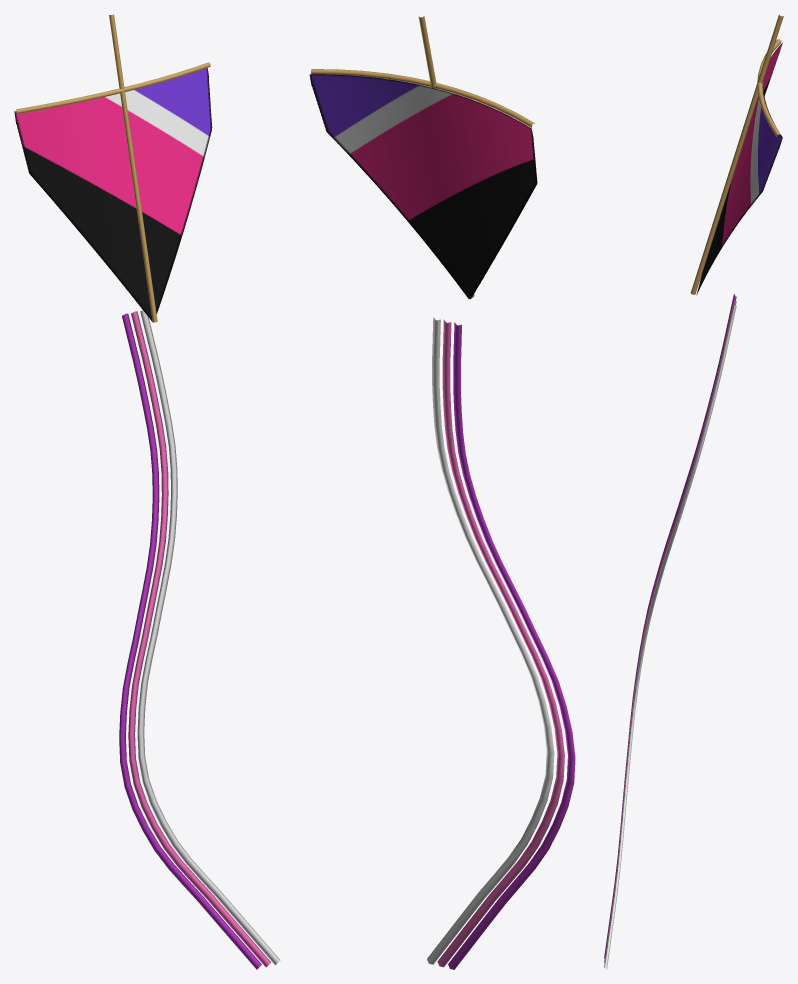
File: bico-1-rosa-e-roxo.glb
3 renders of one model, left to right at view 1: azimuth 30°, elevation 25°; view 2: azimuth 150°, elevation 25°; view 3: azimuth 270°, elevation 25°, orthographic. The views are drawn at different scales.
Parts seen in each view (by area): view 1: bico-1-rosa-e-roxo; view 2: bico-1-rosa-e-roxo; view 3: bico-1-rosa-e-roxo.
Boxes of the visible parts, box(x1,y1,x2,y2) form: bico-1-rosa-e-roxo: box(14, 14, 280, 969); bico-1-rosa-e-roxo: box(309, 16, 575, 969); bico-1-rosa-e-roxo: box(604, 15, 783, 969).
Bounding box in the file's own units: 1.06 × 4.72 × 0.8386.
Materials: 5 (1 with a texture image).
